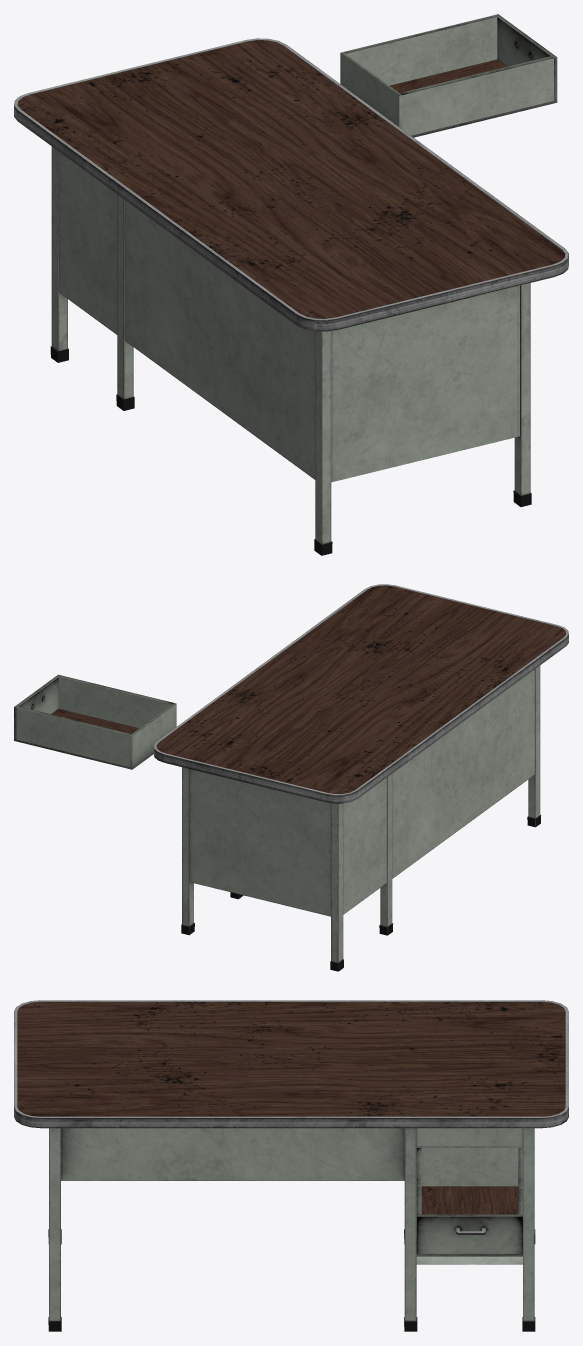
The model's file is table.dae.
3 renders of one model, top to bottom at view 1: azimuth 30°, elevation 25°; view 2: azimuth 150°, elevation 25°; view 3: azimuth 270°, elevation 25°, orthographic. The views are drawn at different scales.
Parts seen in each view (by area): view 1: Cube.003, Cube.001; view 2: Cube.003, Cube.001; view 3: Cube.003, Cube.001.
Part boxes in pixels (x1,y1,x2,y2): Cube.003: [14, 38, 568, 555]; Cube.001: [340, 14, 557, 137]; Cube.003: [153, 584, 568, 971]; Cube.001: [14, 674, 176, 769]; Cube.003: [14, 1000, 568, 1331]; Cube.001: [416, 1146, 522, 1256].
Bounding box in the file's own units: 3.26 × 3.63 × 1.63.
